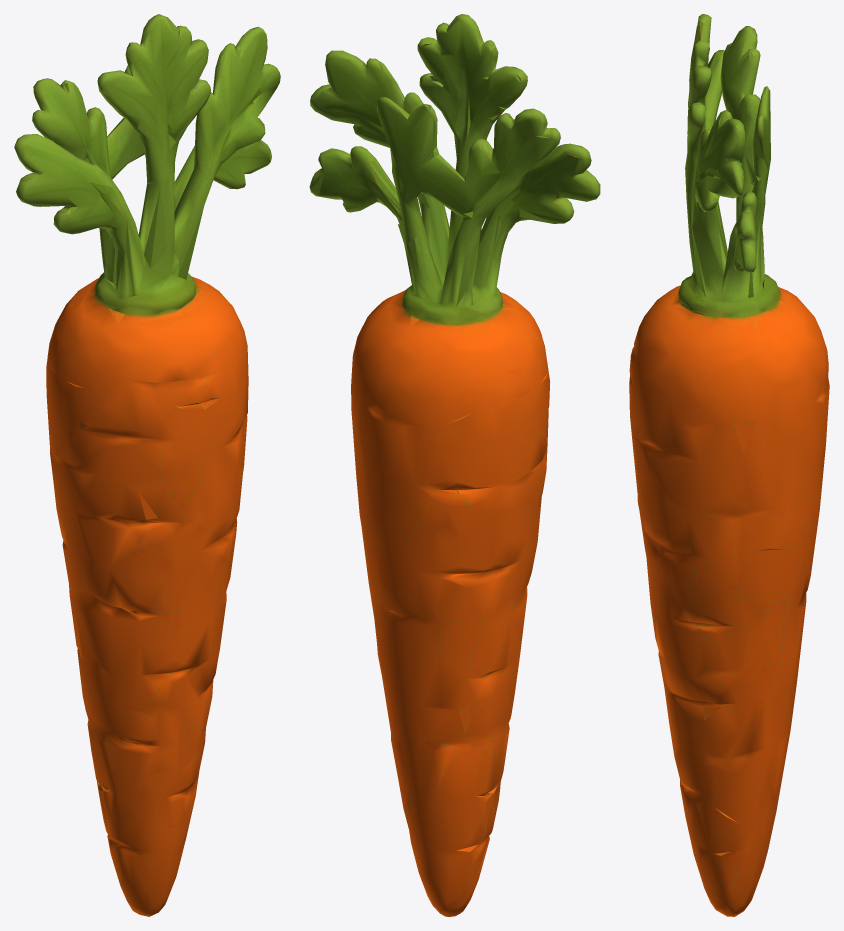
Rendered from carrot-crop-carrot.glb.
3 renders of one model, left to right at view 1: azimuth 30°, elevation 25°; view 2: azimuth 150°, elevation 25°; view 3: azimuth 270°, elevation 25°, orthographic. The views are drawn at different scales.
Visible parts, largest first — view 1: Mesh_0; view 2: Mesh_0; view 3: Mesh_0.
Part boxes in pixels (<box>): Mesh_0: <box>14,14,280,916</box>; Mesh_0: <box>309,14,600,916</box>; Mesh_0: <box>629,14,829,916</box>.
Size of the model in its own units: 0.06 by 0.1869 by 0.0377.
1 material, 1 textured.
